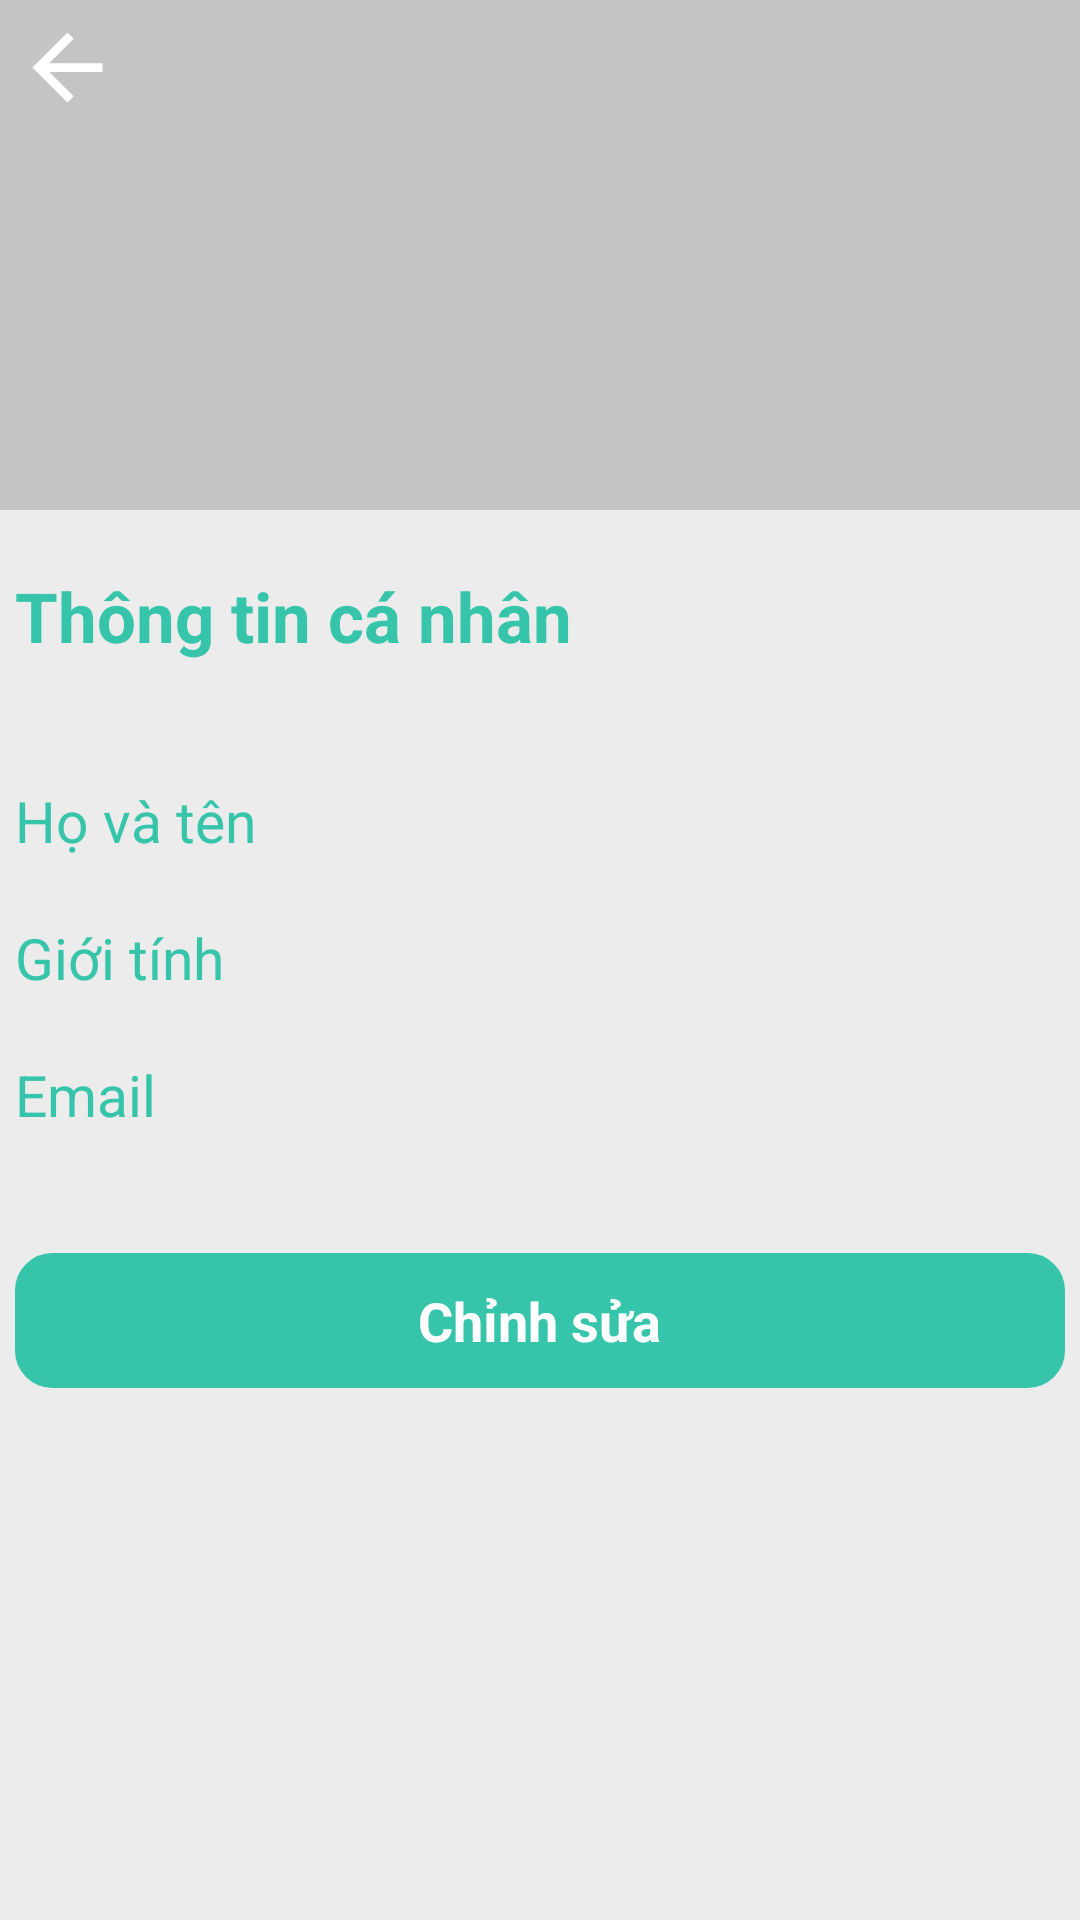

Named icons in this screenshot (1080*1920) and their bounding boxes, bbox=(x1, y1, x2, y2):
back: bbox=(33, 33, 103, 102)
